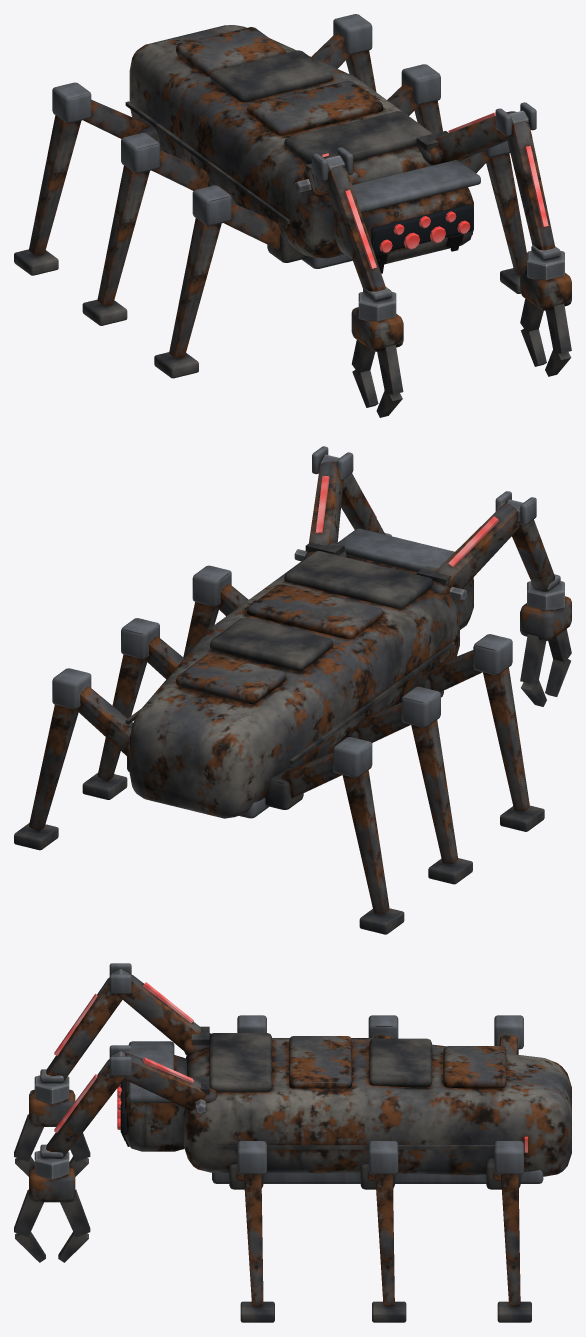
File: crawler_night.fbx
The picture shows the model from 3 angles, top to bottom: view 1: azimuth 30°, elevation 25°; view 2: azimuth 150°, elevation 25°; view 3: azimuth 270°, elevation 25°; orthographic projection. The views are drawn at different scales.
Parts seen in each view (by area): view 1: Torso, Head, Leg1, Leg3, Leg2, Hand, LeftHand, Forearm, LeftForearm, Leg4, LeftUpperArm, Leg6 (+3 smaller); view 2: Torso, Leg3, Leg1, Leg2, Leg6, Leg5, Hand, UpperArm, Head, LeftUpperArm, Leg4, Forearm (+1 smaller); view 3: Torso, Head, LeftHand, Leg6, Leg5, Leg4, UpperArm, LeftUpperArm, Hand, Forearm, LeftForearm, Legs (+3 smaller).
Boxes of the visible parts, left/top/right/bottom form: Torso: left=125, top=25, right=433, bottom=258; Head: left=334, top=160, right=480, bottom=273; Leg1: left=154, top=185, right=305, bottom=378; Leg3: left=14, top=82, right=165, bottom=275; Leg2: left=82, top=132, right=214, bottom=325; Hand: left=351, top=292, right=403, bottom=417; LeftHand: left=520, top=250, right=571, bottom=376; Forearm: left=324, top=155, right=391, bottom=301; LeftForearm: left=507, top=110, right=560, bottom=260; Leg4: left=460, top=141, right=526, bottom=293; LeftUpperArm: left=416, top=102, right=536, bottom=164; Leg6: left=311, top=14, right=376, bottom=91; Torso: left=125, top=551, right=459, bottom=818; Leg3: left=265, top=737, right=404, bottom=934; Leg1: left=422, top=634, right=544, bottom=831; Leg2: left=350, top=686, right=472, bottom=884; Leg6: left=14, top=668, right=132, bottom=850; Leg5: left=82, top=618, right=184, bottom=799; Hand: left=520, top=581, right=571, bottom=706; UpperArm: left=416, top=491, right=536, bottom=600; Head: left=337, top=528, right=473, bottom=629; LeftUpperArm: left=294, top=446, right=353, bottom=561; Leg4: left=183, top=565, right=248, bottom=657; Forearm: left=506, top=499, right=560, bottom=591; Torso: left=182, top=1033, right=571, bottom=1176; Head: left=120, top=1041, right=186, bottom=1151; LeftHand: left=14, top=1150, right=90, bottom=1262; Leg6: left=486, top=1141, right=531, bottom=1322; Leg5: left=360, top=1141, right=406, bottom=1322; Leg4: left=229, top=1141, right=274, bottom=1322; UpperArm: left=109, top=963, right=210, bottom=1055; LeftUpperArm: left=109, top=1045, right=217, bottom=1114; Hand: left=14, top=1075, right=90, bottom=1176; Forearm: left=40, top=969, right=128, bottom=1082; LeftForearm: left=40, top=1051, right=125, bottom=1158; Legs: left=212, top=1170, right=543, bottom=1183.
Size of the model in its own units: 3.46 by 2.22 by 4.88.
1 material, 1 textured.
